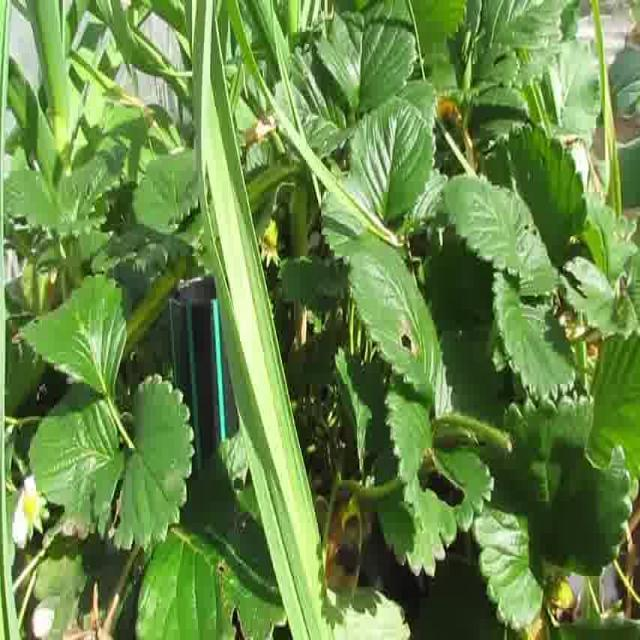Fruta sana: (544, 578, 578, 612), (264, 220, 279, 251)
Moho gris: (61, 626, 114, 640)
